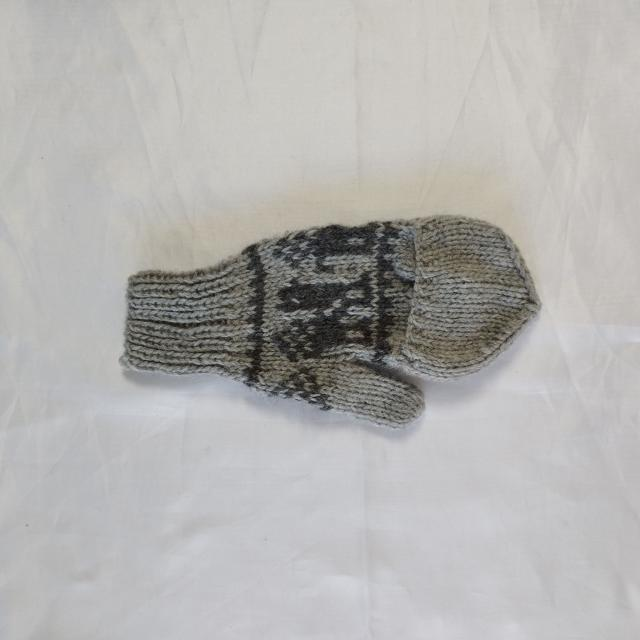Guante: (118, 213, 542, 430)
